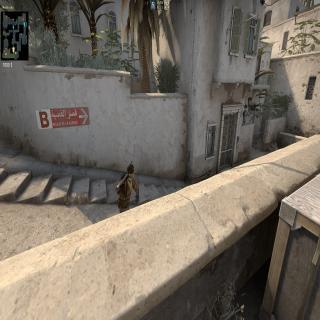T-Head: (126, 161, 136, 180)
